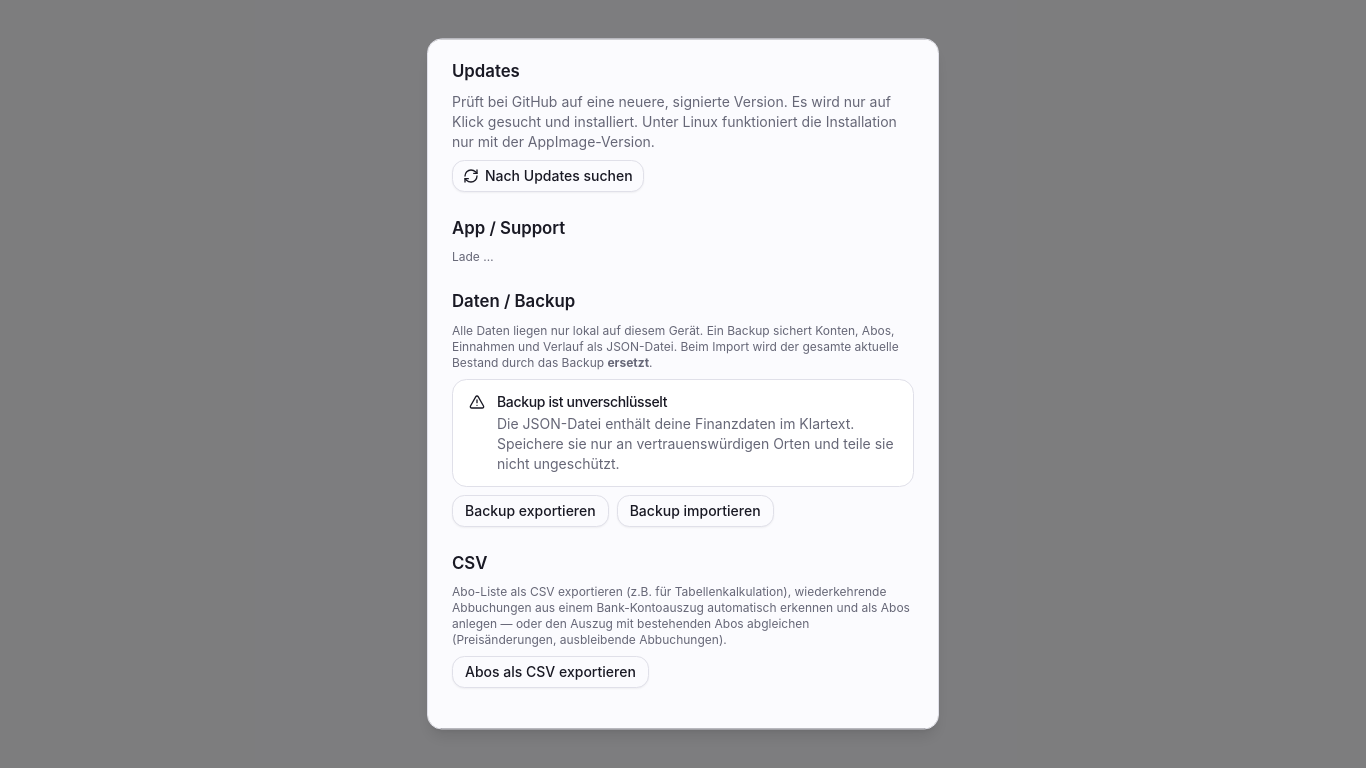
Scenario: SettingsDialog › exportiert ein Backup an den im Dialog gewählten Pfad
(page scrolled)
Click the button "Backup exportieren" at (530, 511), box [452,495,609,527]
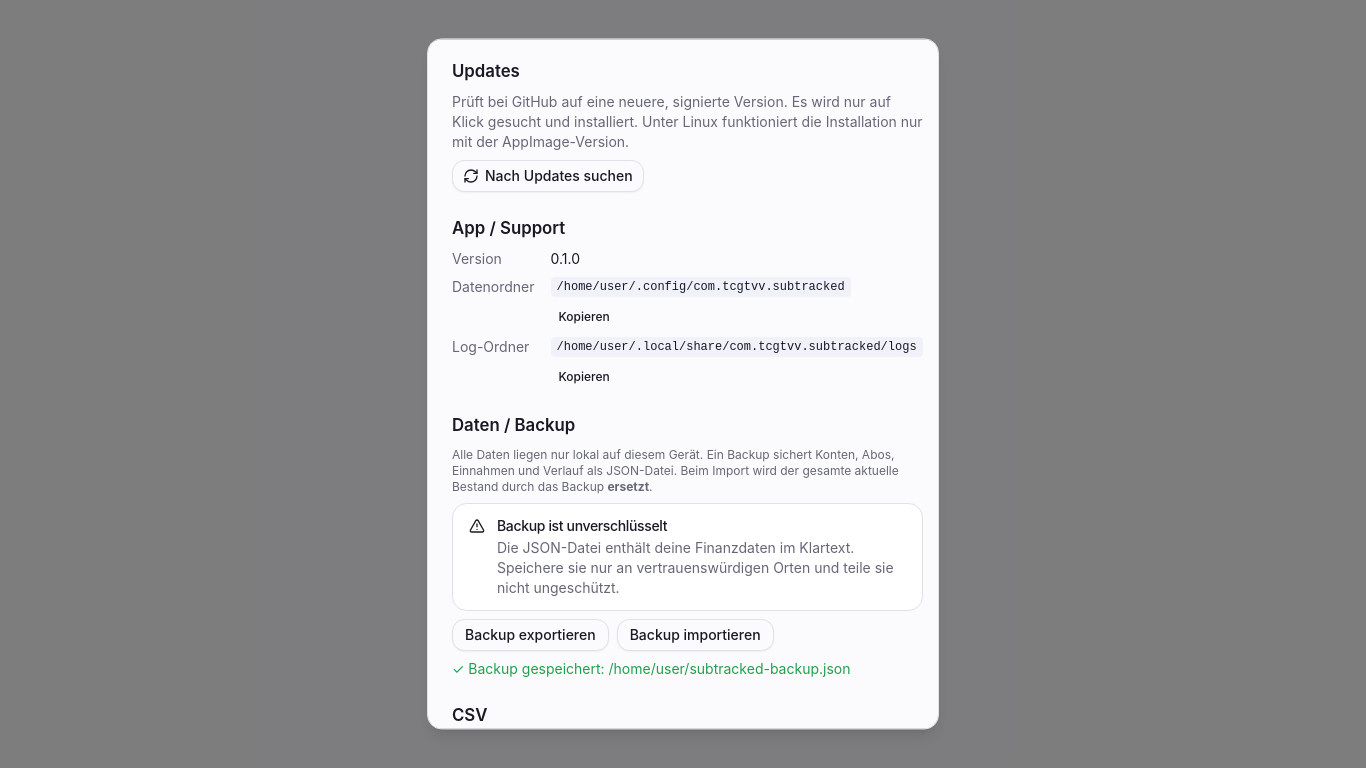
Check: the message shows "Backup gespeichert", box [452,660,850,677]
